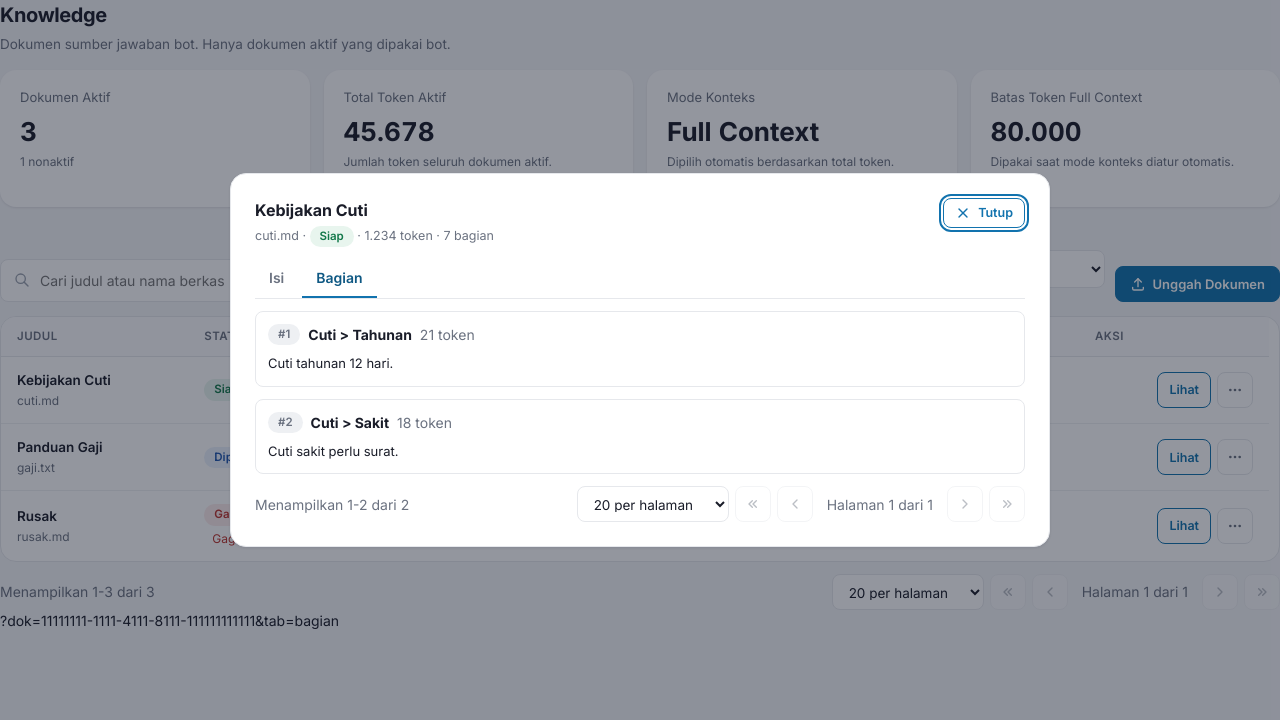
Test case: Knowledge: rincian dokumen › Tutup menghapus dok dan tab dari URL
Click the button "Tutup" at (984, 213), box [943, 198, 1025, 228]
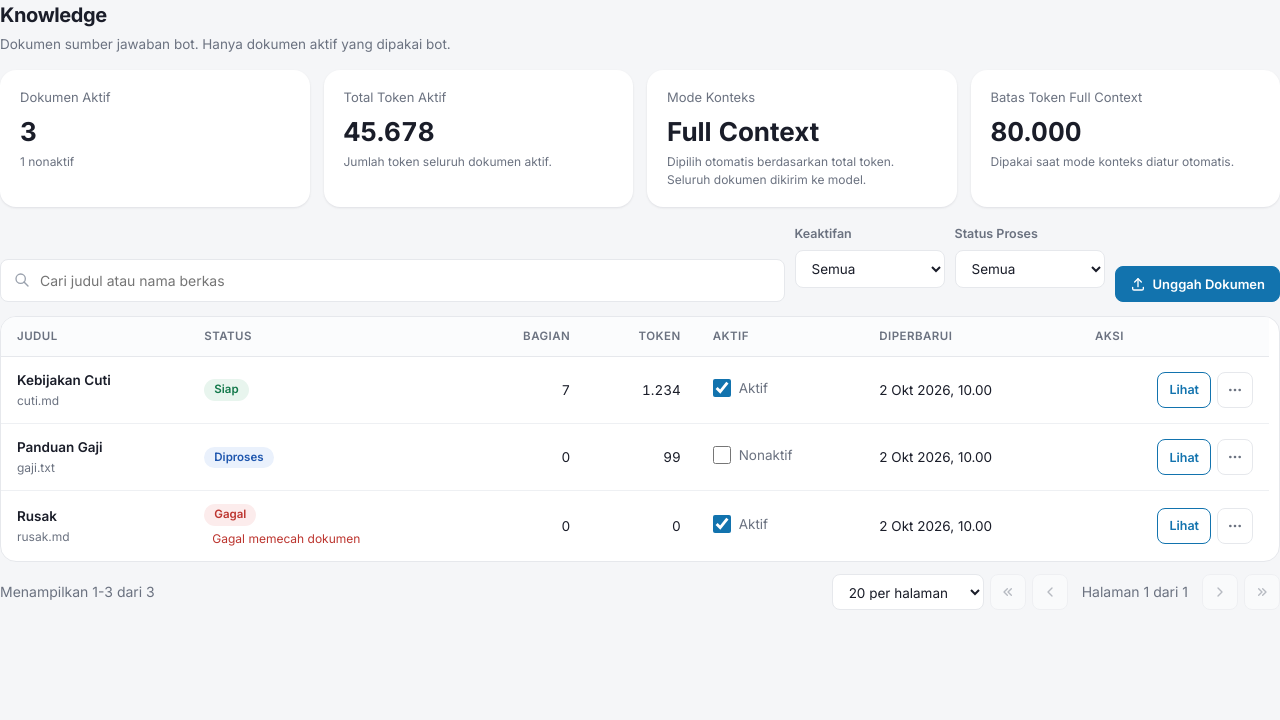
expect the dialog is gone: met
